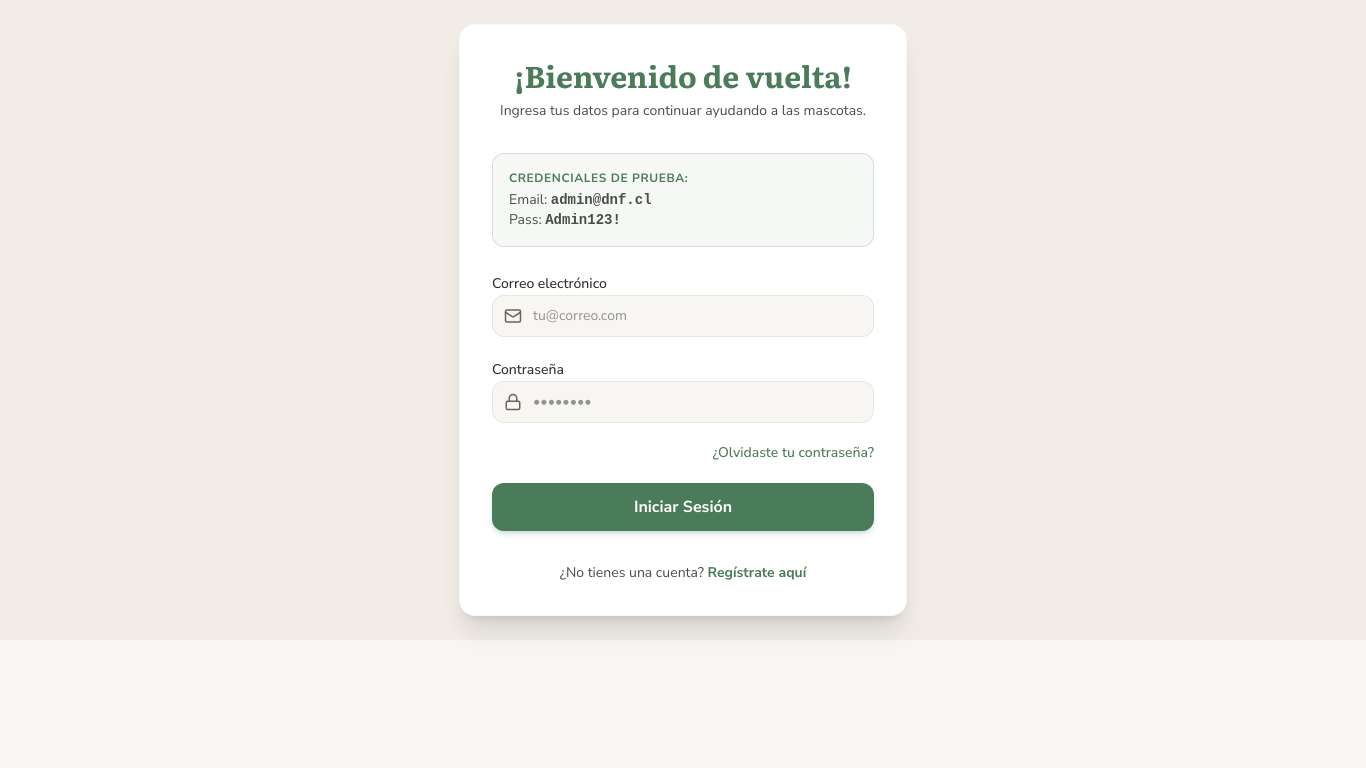
AuthView Component › handles failed login
In the field with placeholder "tu@correo.com": point(683, 316) [492,295,874,337], type "wrong@test.com"
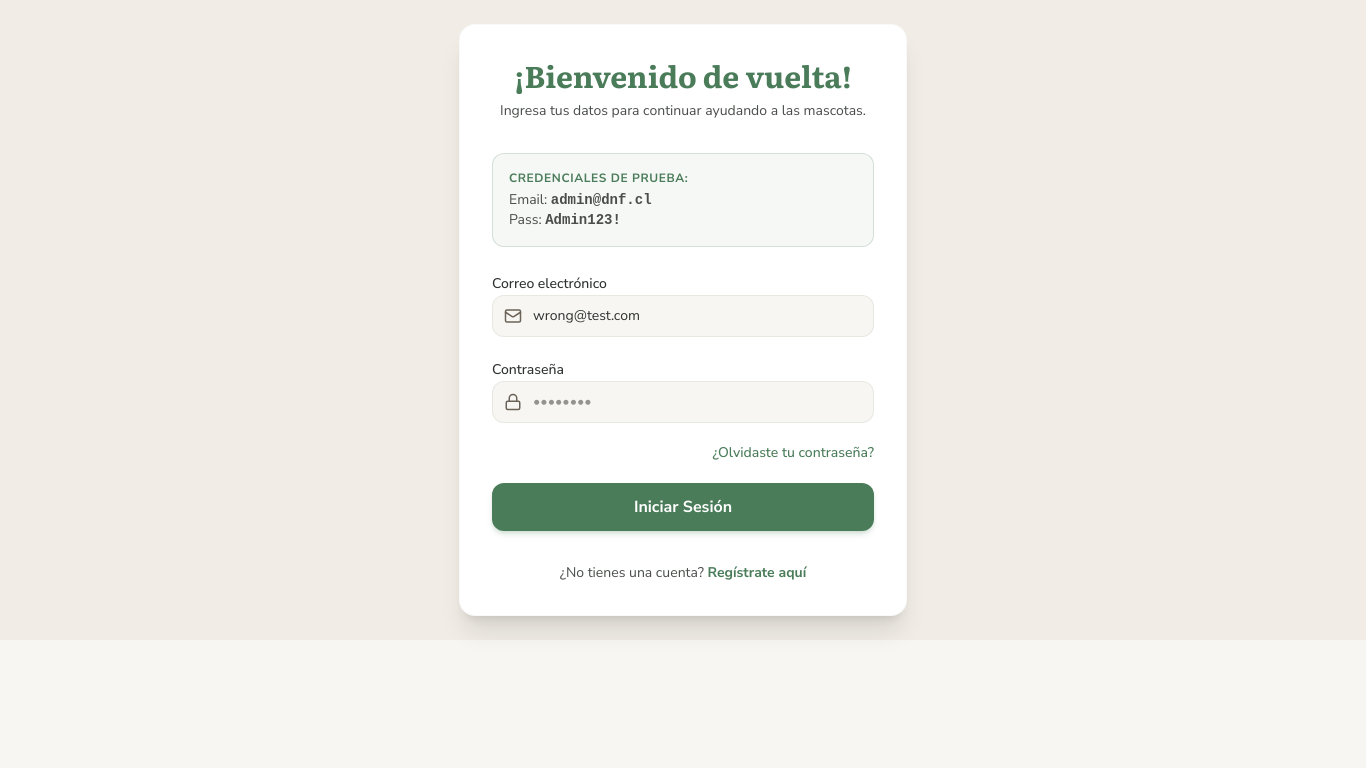
In the password field with placeholder "••••••••": point(683, 402) [492,381,874,423], type "wrong"
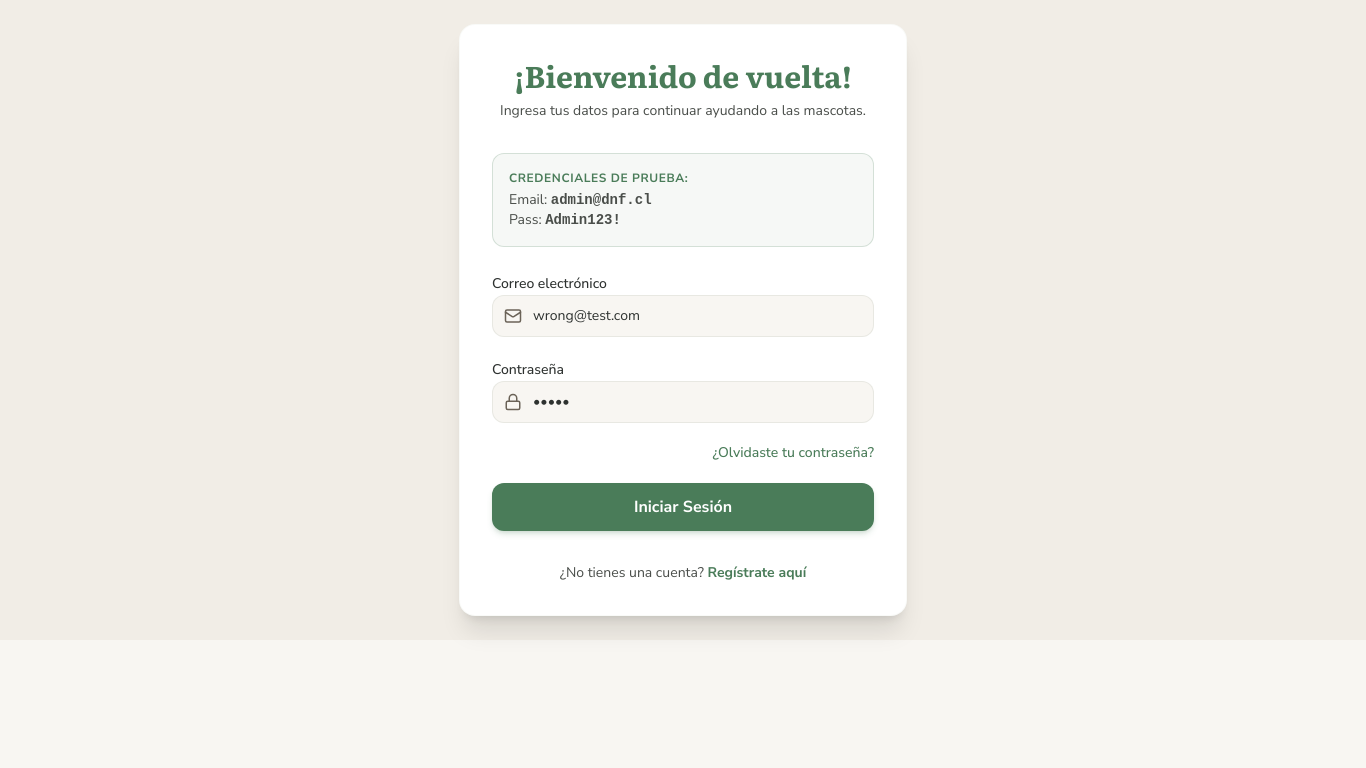
Click the button "Iniciar Sesión": point(683, 507) [492,483,874,531]
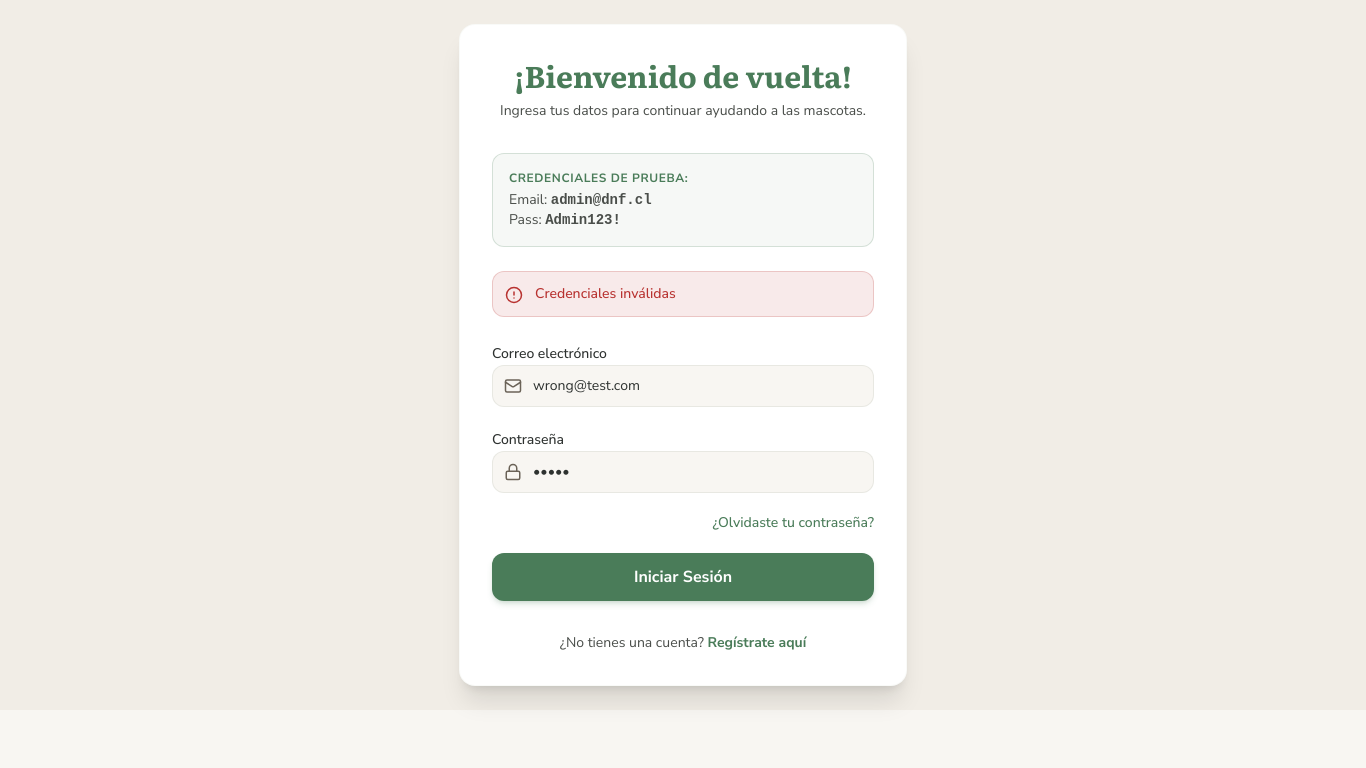
Check: the text "Credenciales inválidas" is shown, box [535,284,676,304]
